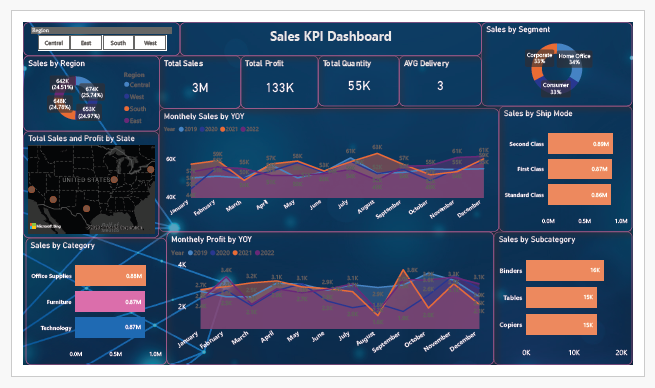

This screenshot's page, from the dashboard's own definition file:
{"tool":"powerbi","page":{"name":"Page 1","canvas":[1280,720],"ordinal":0},"visuals":[{"type":"clusteredBarChart","title":"Sales by Category","fields":{"Category":["clean_superstore_sales_dataset.Category"],"Y":["Sum(clean_superstore_sales_dataset.Sales)"]},"box":[5.5,452.8,295,267.6],"z":0},{"type":"clusteredBarChart","title":"Sales by Subcategory","fields":{"Category":["clean_superstore_sales_dataset.Sub_Category"],"Y":["Sum(clean_superstore_sales_dataset.Sales)"]},"box":[989.4,440.5,290.9,279.9],"z":1000},{"type":"clusteredBarChart","title":"Sales by Ship Mode","fields":{"Category":["clean_superstore_sales_dataset.Ship_Mode"],"Y":["Sum(clean_superstore_sales_dataset.Sales)"]},"box":[1000.3,175.6,279.9,264.8],"z":2000},{"type":"areaChart","title":"Monthely Sales by YOY","fields":{"Category":["clean_superstore_sales_dataset.Order_Date.Variation.Date Hierarchy.Month"],"Y":["Sum(clean_superstore_sales_dataset.Sales)"],"Series":["clean_superstore_sales_dataset.Order_Date.Variation.Date Hierarchy.Year"]},"box":[285.4,181.1,714.9,259.3],"z":3000},{"type":"areaChart","title":"Monthely Profit by YOY","fields":{"Category":["clean_superstore_sales_dataset.Order_Date.Variation.Date Hierarchy.Month"],"Series":["clean_superstore_sales_dataset.Order_Date.Variation.Date Hierarchy.Year"],"Y":["Sum(clean_superstore_sales_dataset.Profit)"]},"box":[300.5,440.5,688.9,279.9],"z":4000},{"type":"map","title":"Total Sales and Profit by State","fields":{"Category":["clean_superstore_sales_dataset.State"],"Size":["Sum(clean_superstore_sales_dataset.Sales)"]},"box":[0,229,285,224],"z":5000},{"type":"donutChart","title":" Sales by Segment","fields":{"Category":["clean_superstore_sales_dataset.Segment"],"Y":["Sum(clean_superstore_sales_dataset.Sales)"]},"box":[962.7,0,317.3,176.1],"z":6000},{"type":"slicer","fields":{"Values":["clean_superstore_sales_dataset.Region"]},"box":[0,0,329.4,70],"z":7000},{"type":"card","title":" Total Sales","fields":{"Values":["Sum(clean_superstore_sales_dataset.Sales)"]},"box":[285.9,70,171.3,111],"z":8000},{"type":"card","title":"Total Profit","fields":{"Values":["Sum(clean_superstore_sales_dataset.Profit)"]},"box":[457.2,70,162.9,111],"z":9000},{"type":"card","title":"Total Quantity","fields":{"Values":["Sum(clean_superstore_sales_dataset.Quantity)"]},"box":[620.1,70,170.1,106.2],"z":10000},{"type":"card","title":"AVG Delivery","fields":{"Values":["Avg(clean_superstore_sales_dataset.Average Delivery)"]},"box":[790.2,70,172.5,106.2],"z":11000},{"type":"donutChart","fields":{"Category":["clean_superstore_sales_dataset.Region"],"Y":["Sum(clean_superstore_sales_dataset.Sales)"]},"box":[0,70,285.9,159.3],"z":12000},{"type":"textbox","box":[329.4,0,633.4,70],"z":13000}]}

Visuals, with their boxes on the page's 1280x720 design canvas (x1, y1, x2, y2). These are canvas units, not pixel positions in the 655x388 screenshot, which may show the page scaled, cropped or inside an application window:
"Sales by Category" clusteredBarChart: box=[6, 453, 300, 720]
"Sales by Subcategory" clusteredBarChart: box=[989, 440, 1280, 720]
"Sales by Ship Mode" clusteredBarChart: box=[1000, 176, 1280, 440]
"Monthely Sales by YOY" areaChart: box=[285, 181, 1000, 440]
"Monthely Profit by YOY" areaChart: box=[300, 440, 989, 720]
"Total Sales and Profit by State" map: box=[0, 229, 285, 453]
" Sales by Segment" donutChart: box=[963, 0, 1280, 176]
slicer - clean_superstore_sales_dataset.Region: box=[0, 0, 329, 70]
" Total Sales" card: box=[286, 70, 457, 181]
"Total Profit" card: box=[457, 70, 620, 181]
"Total Quantity" card: box=[620, 70, 790, 176]
"AVG Delivery" card: box=[790, 70, 963, 176]
donutChart - clean_superstore_sales_dataset.Region x Sum(clean_superstore_sales_dataset.Sales): box=[0, 70, 286, 229]
textbox: box=[329, 0, 963, 70]
